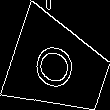O_E: (32, 38, 86, 96)
